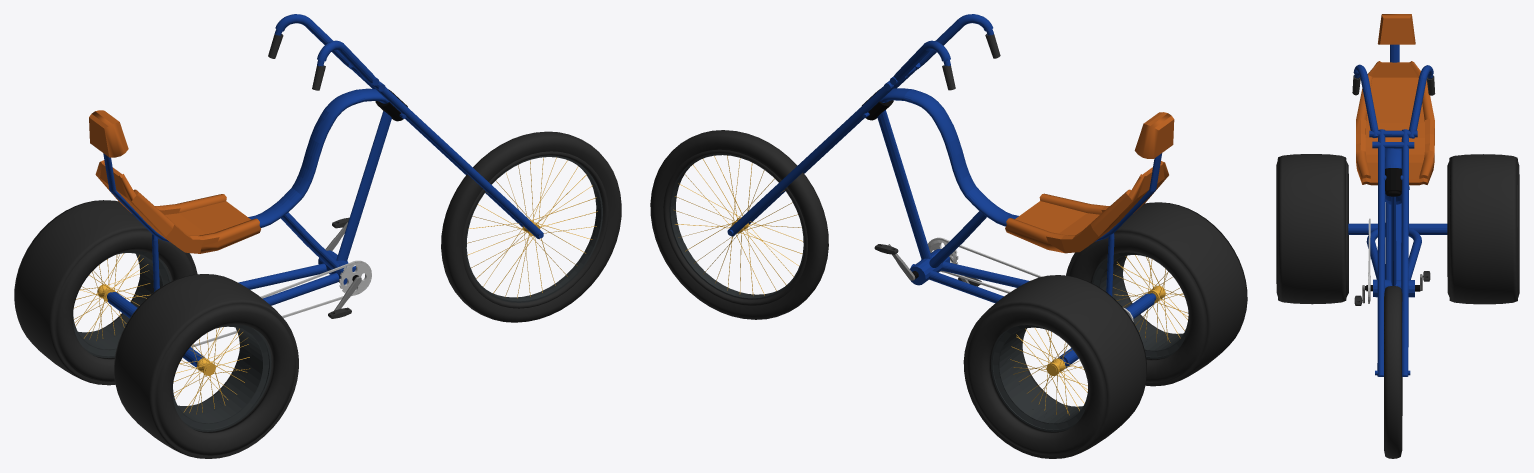
File: o3_bici_chopper.glb
3 renders of one model, left to right at view 1: azimuth 30°, elevation 25°; view 2: azimuth 150°, elevation 25°; view 3: azimuth 270°, elevation 25°, orthographic. The views are drawn at different scales.
Parts seen in each view (by area): view 1: sb_modello; view 2: sb_modello; view 3: sb_modello.
Part boxes in pixels (x1,y1,x2,y2): sb_modello: (14,14,621,458); sb_modello: (650,14,1247,458); sb_modello: (1276,14,1519,458).
Bounding box in the file's own units: 1.67 × 1.03 × 0.7711.
